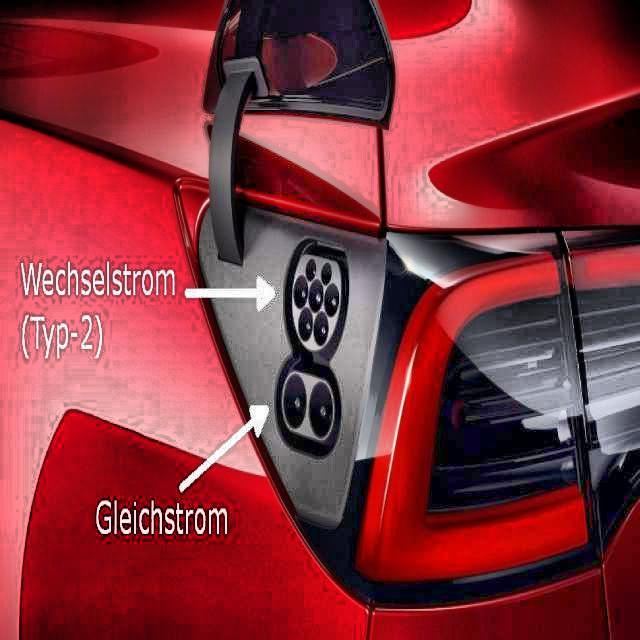inlet: (292, 255, 341, 351)
inlet-above-left: (306, 259, 316, 281)
inlet-above-right: (321, 262, 332, 285)
inlet-below-left: (298, 308, 313, 341)
inlet-below-right: (314, 311, 329, 346)
inlet-center: (309, 279, 323, 312)
inlet-center-left: (293, 276, 308, 308)
inlet-center-right: (324, 283, 339, 317)
